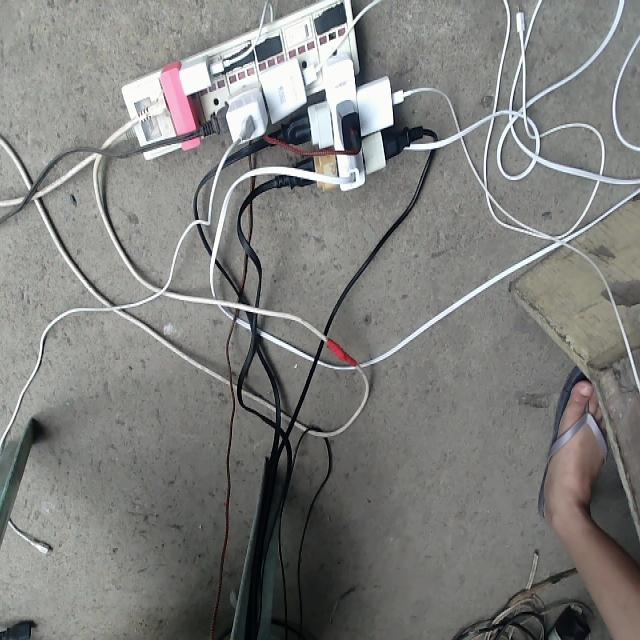-: (122, 0, 403, 189)
